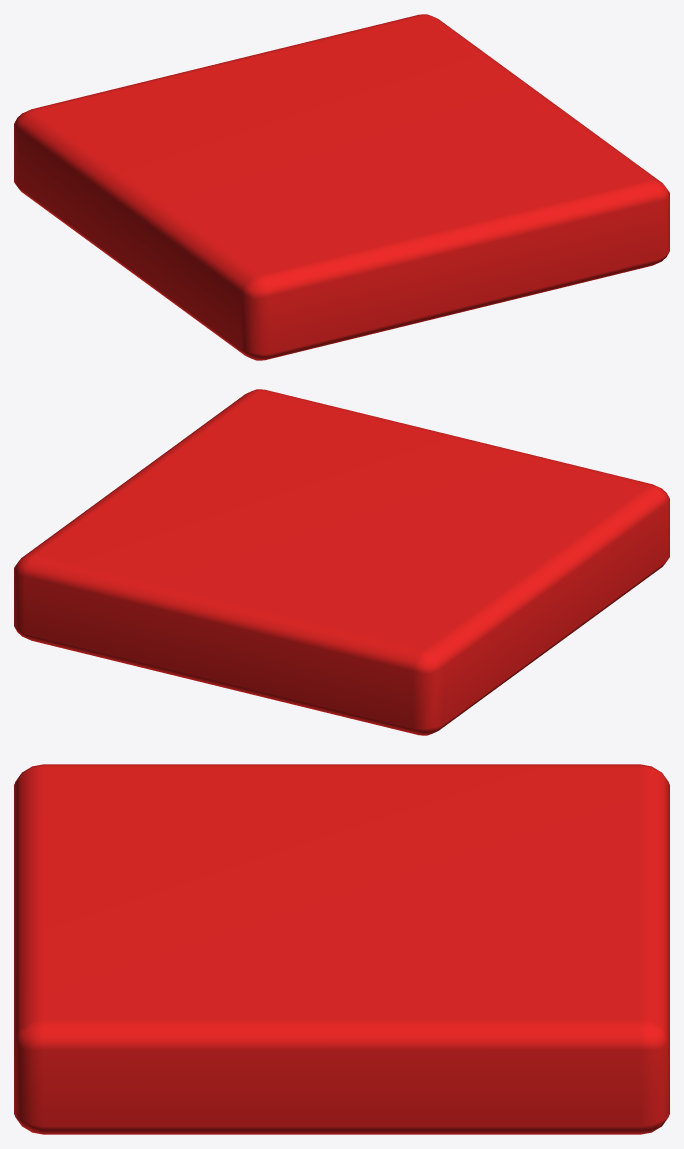
File: Red_Box.fbx
3 renders of one model, top to bottom at view 1: azimuth 30°, elevation 25°; view 2: azimuth 150°, elevation 25°; view 3: azimuth 270°, elevation 25°, orthographic. The views are drawn at different scales.
Parts seen in each view (by area): view 1: Red_Box; view 2: Red_Box; view 3: Red_Box.
Boxes of the visible parts, <box> form: Red_Box: <box>14,14,669,360</box>; Red_Box: <box>14,389,669,735</box>; Red_Box: <box>14,764,669,1134</box>.
Size of the model in its own units: 124 by 23.27 by 124.
1 material, 1 textured.
